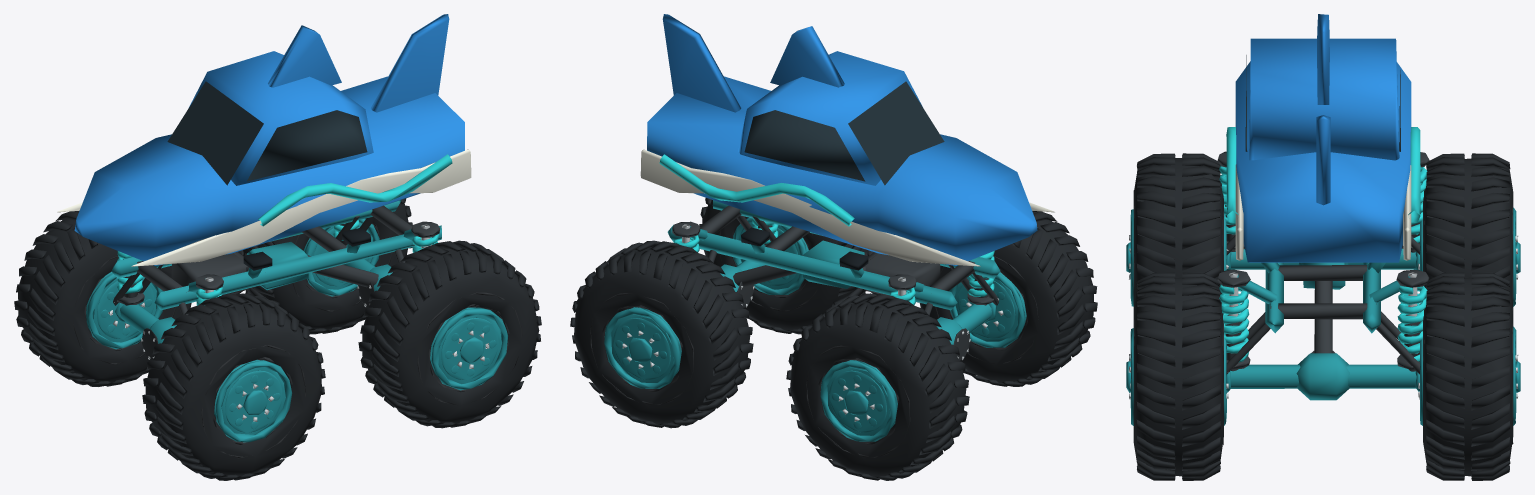
The model's file is Sharkbite_LOD1.fbx.
3 renders of one model, left to right at view 1: azimuth 30°, elevation 25°; view 2: azimuth 150°, elevation 25°; view 3: azimuth 270°, elevation 25°, orthographic. The views are drawn at different scales.
Visible parts, largest first — view 1: Sharkbite_LOD1_sprung_body_Geometry, Sharkbite_LOD1_FL_Spin_Geometry, Sharkbite_LOD1_RL_Spin_Geometry, Sharkbite_LOD1_FR_Spin_Geometry, Sharkbite_LOD1_RR_Spin_Geometry, Sharkbite_LOD1_Root_Geometry, Sharkbite_LOD1_FRONT_axle_Geometry, Sharkbite_LOD1_REAR_axle_Geometry, Sharkbite_LOD1_REAR_shock_-1_Geometry, Sharkbite_LOD1_FRONT_shock_-1_Geometry, Sharkbite_LOD1_FRONT_shock_1_Geometry; view 2: Sharkbite_LOD1_sprung_body_Geometry, Sharkbite_LOD1_FR_Spin_Geometry, Sharkbite_LOD1_RR_Spin_Geometry, Sharkbite_LOD1_FL_Spin_Geometry, Sharkbite_LOD1_RL_Spin_Geometry, Sharkbite_LOD1_Root_Geometry, Sharkbite_LOD1_FRONT_axle_Geometry, Sharkbite_LOD1_REAR_axle_Geometry, Sharkbite_LOD1_FRONT_shock_1_Geometry, Sharkbite_LOD1_REAR_shock_1_Geometry, Sharkbite_LOD1_FRONT_shock_-1_Geometry; view 3: Sharkbite_LOD1_sprung_body_Geometry, Sharkbite_LOD1_RR_Spin_Geometry, Sharkbite_LOD1_RL_Spin_Geometry, Sharkbite_LOD1_FR_Spin_Geometry, Sharkbite_LOD1_FL_Spin_Geometry, Sharkbite_LOD1_REAR_axle_Geometry, Sharkbite_LOD1_Root_Geometry, Sharkbite_LOD1_REAR_shock_-1_Geometry, Sharkbite_LOD1_REAR_shock_1_Geometry, Sharkbite_LOD1_FRONT_axle_Geometry, Sharkbite_LOD1_FRONT_shock_-1_Geometry, Sharkbite_LOD1_FRONT_shock_1_Geometry.
Part boxes in pixels (x1,y1,x2,y2): Sharkbite_LOD1_sprung_body_Geometry: [57, 14, 471, 310]; Sharkbite_LOD1_FL_Spin_Geometry: [142, 293, 325, 480]; Sharkbite_LOD1_RL_Spin_Geometry: [358, 240, 541, 428]; Sharkbite_LOD1_FR_Spin_Geometry: [14, 211, 191, 386]; Sharkbite_LOD1_RR_Spin_Geometry: [238, 198, 412, 334]; Sharkbite_LOD1_Root_Geometry: [113, 216, 405, 315]; Sharkbite_LOD1_FRONT_axle_Geometry: [120, 304, 176, 360]; Sharkbite_LOD1_REAR_axle_Geometry: [343, 259, 392, 307]; Sharkbite_LOD1_REAR_shock_-1_Geometry: [411, 221, 439, 252]; Sharkbite_LOD1_FRONT_shock_-1_Geometry: [196, 274, 223, 305]; Sharkbite_LOD1_FRONT_shock_1_Geometry: [117, 251, 144, 305]; Sharkbite_LOD1_sprung_body_Geometry: [640, 14, 1054, 310]; Sharkbite_LOD1_FR_Spin_Geometry: [786, 293, 969, 480]; Sharkbite_LOD1_RR_Spin_Geometry: [570, 240, 753, 428]; Sharkbite_LOD1_FL_Spin_Geometry: [917, 211, 1097, 386]; Sharkbite_LOD1_RL_Spin_Geometry: [699, 198, 873, 334]; Sharkbite_LOD1_Root_Geometry: [692, 215, 998, 316]; Sharkbite_LOD1_FRONT_axle_Geometry: [936, 304, 991, 360]; Sharkbite_LOD1_REAR_axle_Geometry: [720, 260, 765, 308]; Sharkbite_LOD1_FRONT_shock_1_Geometry: [888, 274, 916, 305]; Sharkbite_LOD1_REAR_shock_1_Geometry: [672, 221, 700, 252]; Sharkbite_LOD1_FRONT_shock_-1_Geometry: [967, 251, 994, 305]; Sharkbite_LOD1_sprung_body_Geometry: [1226, 14, 1420, 333]; Sharkbite_LOD1_RR_Spin_Geometry: [1415, 272, 1520, 480]; Sharkbite_LOD1_RL_Spin_Geometry: [1126, 272, 1230, 480]; Sharkbite_LOD1_FR_Spin_Geometry: [1415, 153, 1520, 309]; Sharkbite_LOD1_FL_Spin_Geometry: [1126, 153, 1231, 307]; Sharkbite_LOD1_REAR_axle_Geometry: [1231, 351, 1416, 400]; Sharkbite_LOD1_Root_Geometry: [1226, 235, 1419, 374]; Sharkbite_LOD1_REAR_shock_-1_Geometry: [1217, 269, 1250, 369]; Sharkbite_LOD1_REAR_shock_1_Geometry: [1396, 269, 1429, 369]; Sharkbite_LOD1_FRONT_axle_Geometry: [1231, 248, 1416, 269]; Sharkbite_LOD1_FRONT_shock_-1_Geometry: [1217, 151, 1244, 250]; Sharkbite_LOD1_FRONT_shock_1_Geometry: [1402, 152, 1429, 250].
Bounding box in the file's own units: 533 × 477 × 414.
